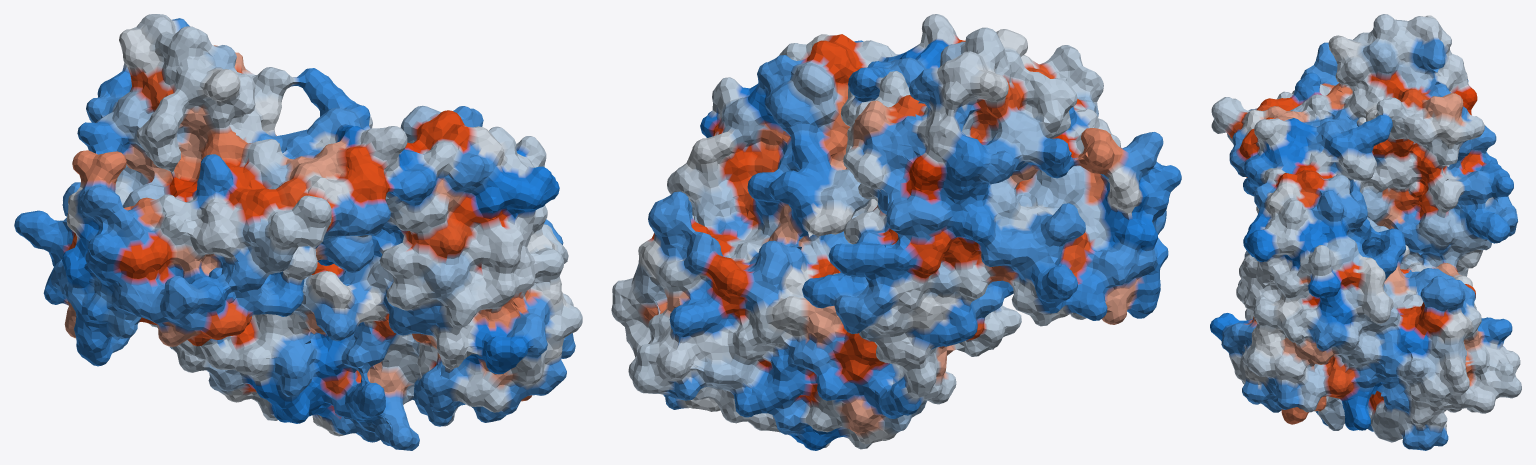
The model's file is CSF_FAB2_surf.fbx.
3 views of the same model, side by side, from view 1: azimuth 30°, elevation 25°; view 2: azimuth 150°, elevation 25°; view 3: azimuth 270°, elevation 25° (orthographic). The views are drawn at different scales.
Parts seen in each view (by area): view 1: Shape_IndexedTriangleSet.108; view 2: Shape_IndexedTriangleSet.108; view 3: Shape_IndexedTriangleSet.108.
Boxes of the visible parts, x1=… form: Shape_IndexedTriangleSet.108: x1=14, y1=14, x2=582, y2=450; Shape_IndexedTriangleSet.108: x1=611, y1=14, x2=1181, y2=450; Shape_IndexedTriangleSet.108: x1=1210, y1=14, x2=1521, y2=450.
Size of the model in its own units: 7138 by 6461 by 5192.
